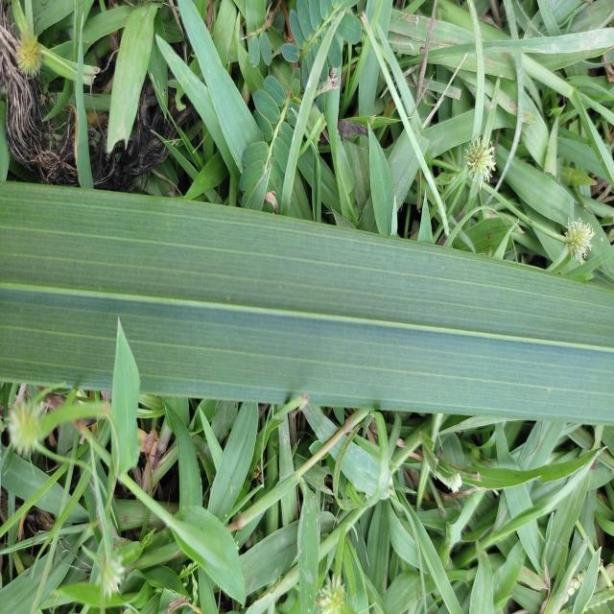Healthy: (3, 182, 614, 425)
